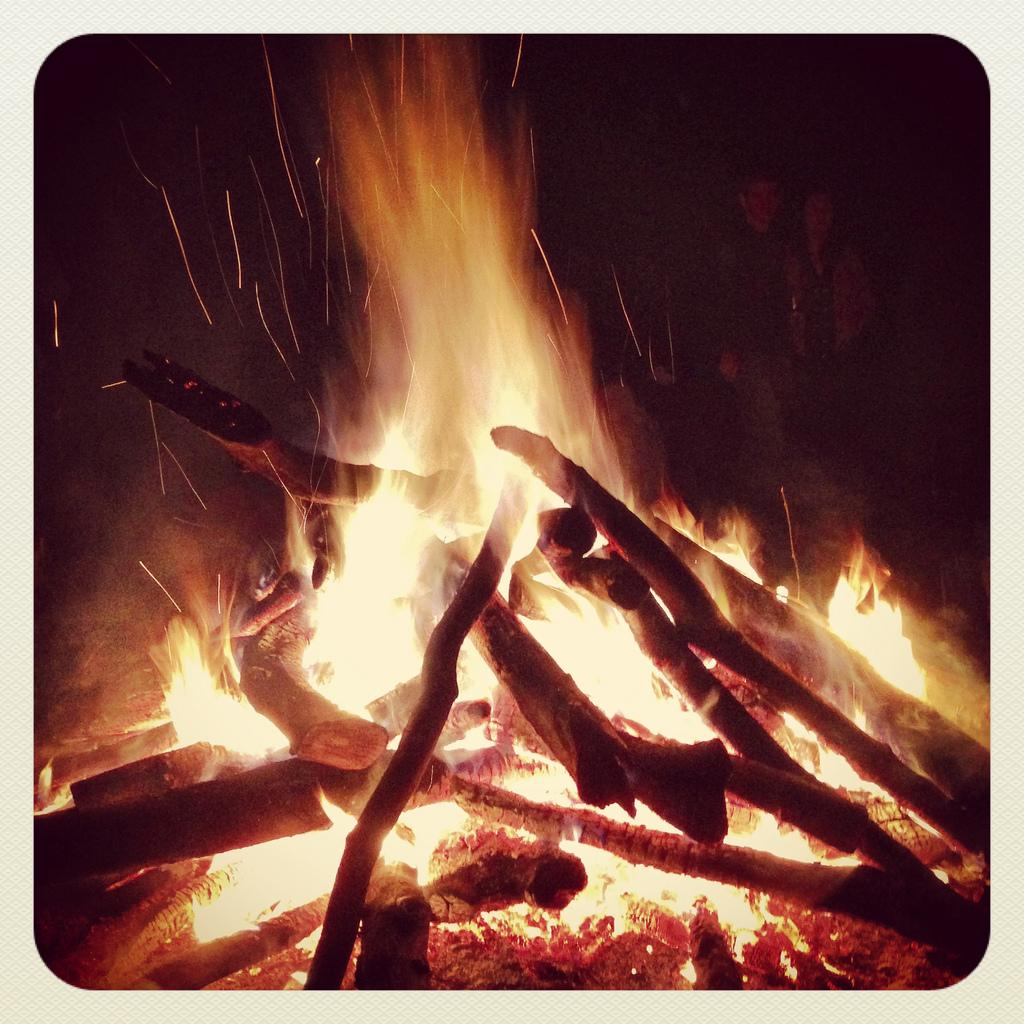fire: (378, 180, 555, 430), (320, 465, 492, 712), (540, 595, 678, 725), (168, 668, 302, 760), (215, 835, 332, 922), (838, 580, 920, 680), (590, 858, 728, 912)
